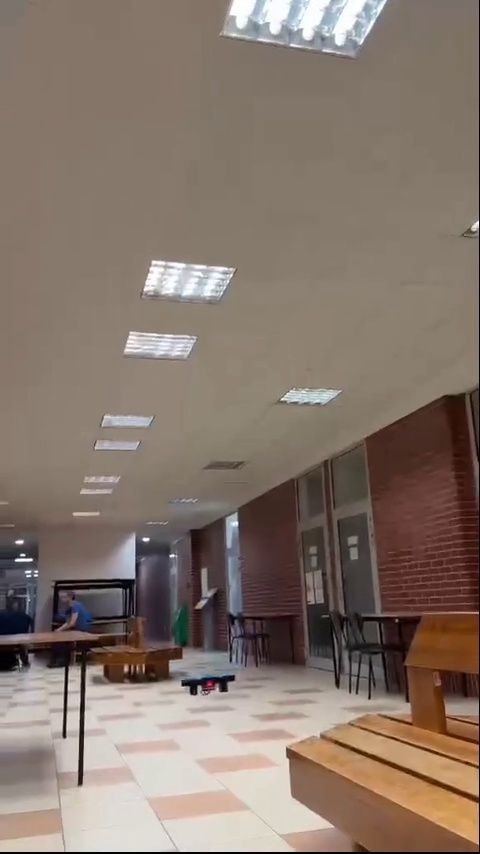drone: (182, 672, 237, 696)
no vest: (51, 587, 96, 642), (0, 593, 38, 648)
